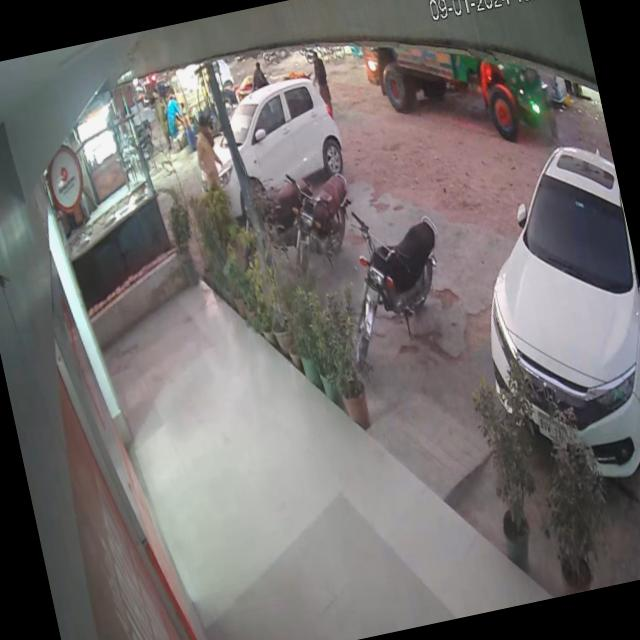Car: (437, 90, 640, 512), (160, 58, 353, 216)
Motorcycle: (322, 182, 470, 371), (282, 158, 368, 266)
